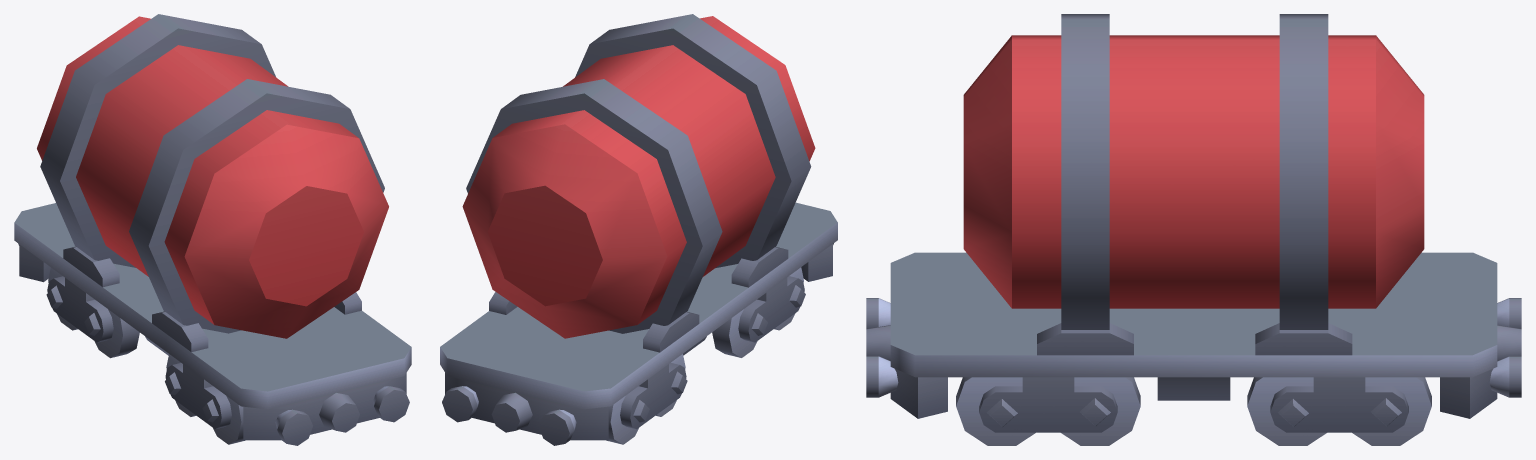
File: k-train-train-carriage-tank.glb
3 renders of one model, left to right at view 1: azimuth 30°, elevation 25°; view 2: azimuth 150°, elevation 25°; view 3: azimuth 270°, elevation 25°, orthographic. The views are drawn at different scales.
Visible parts, largest first — view 1: train-carriage-tank, wheels-back, wheels-front; view 2: train-carriage-tank, wheels-front, wheels-back; view 3: train-carriage-tank, wheels-front, wheels-back.
Part boxes in pixels (x1,y1,x2,y2): train-carriage-tank: (14, 14, 411, 445); wheels-back: (46, 267, 139, 358); wheels-front: (165, 354, 245, 444); train-carriage-tank: (440, 14, 837, 445); wheels-front: (712, 267, 805, 357); wheels-back: (606, 354, 687, 444); train-carriage-tank: (866, 14, 1521, 418); wheels-front: (956, 377, 1140, 445); wheels-back: (1247, 377, 1431, 445).
Bounding box in the file's own units: 1.39 × 1.75 × 2.7.
1 material, 1 textured.
